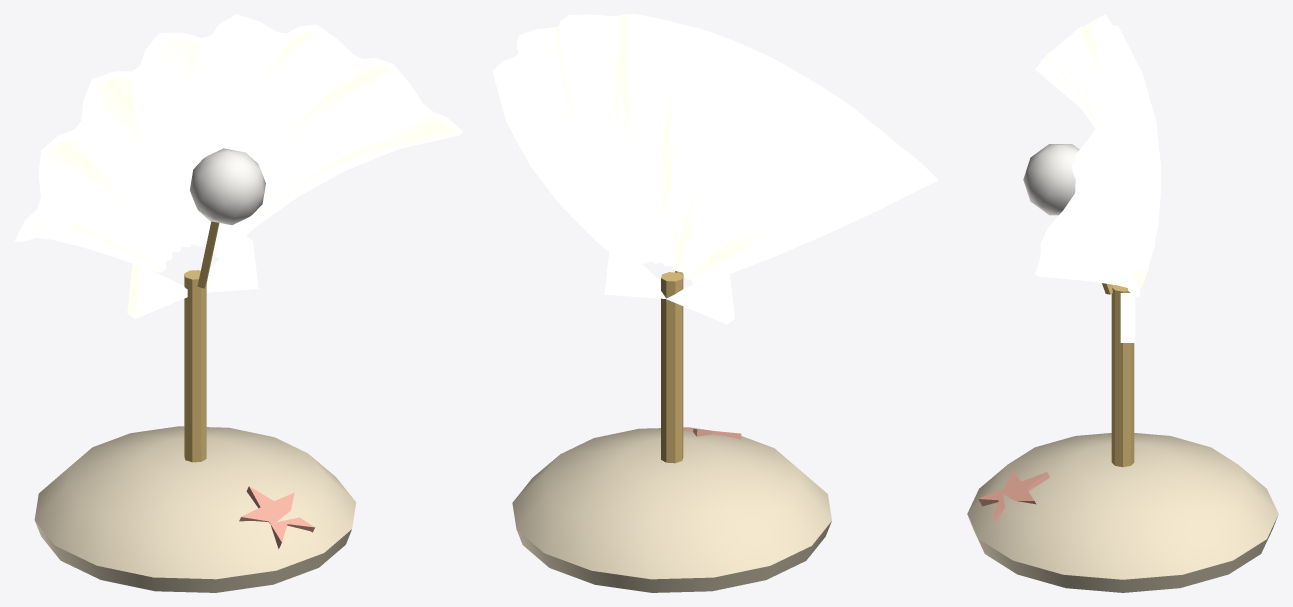
The model's file is furn_shell_lamp.glb.
The picture shows the model from 3 angles, left to right: view 1: azimuth 30°, elevation 25°; view 2: azimuth 150°, elevation 25°; view 3: azimuth 270°, elevation 25°; orthographic projection. The views are drawn at different scales.
Parts seen in each view (by area): view 1: furn_shell_lamp_body; view 2: furn_shell_lamp_body; view 3: furn_shell_lamp_body.
Part boxes in pixels (x1=…): furn_shell_lamp_body: x1=15, y1=14, x2=463, y2=592; furn_shell_lamp_body: x1=492, y1=14, x2=938, y2=592; furn_shell_lamp_body: x1=967, y1=14, x2=1278, y2=592.
Bounding box in the file's own units: 0.3996 × 0.4303 × 0.25.
